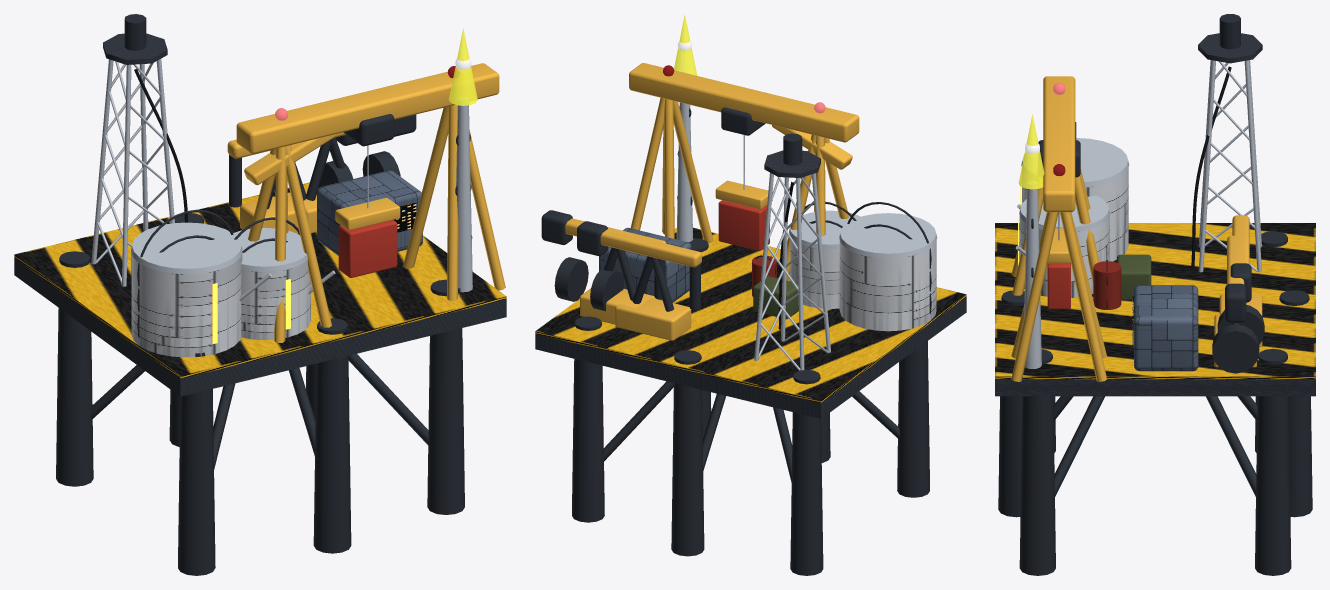
The model's file is platform-T2.glb.
The picture shows the model from 3 angles, left to right: view 1: azimuth 30°, elevation 25°; view 2: azimuth 150°, elevation 25°; view 3: azimuth 270°, elevation 25°; orthographic projection. The views are drawn at different scales.
Visible parts, largest first — view 1: object 14, object 13, object 74, object 96, object 11, object 7, object 5, object 1, anim:trolley, object 75, object 81, object 101 (+21 smaller); view 2: object 14, object 74, object 13, object 96, object 9, object 1, object 3, anim:swing (×2), object 5, anim:trolley, object 75, object 59 (+23 smaller); view 3: object 14, object 3, object 7, object 13, object 101, object 96, object 9, object 11, anim:swing (×2), anim:trolley, object 69, object 95 (+19 smaller).
Boxes of the visible parts, <box> form: object 14: <box>14,182,506,378</box>; object 13: <box>14,257,506,396</box>; object 74: <box>131,253,242,357</box>; object 96: <box>236,63,499,153</box>; object 11: <box>313,318,351,553</box>; object 7: <box>427,279,464,514</box>; object 5: <box>178,352,215,575</box>; object 1: <box>56,251,93,486</box>; anim:trolley: <box>335,114,400,277</box>; object 75: <box>131,222,242,274</box>; object 81: <box>241,260,310,340</box>; object 101: <box>317,170,422,255</box>; object 14: <box>535,227,966,402</box>; object 74: <box>839,240,936,331</box>; object 13: <box>535,297,966,418</box>; object 96: <box>629,63,859,142</box>; object 9: <box>671,350,704,556</box>; object 1: <box>790,369,823,575</box>; object 3: <box>572,316,604,522</box>; anim:swing (×2): <box>541,210,701,309</box>; object 5: <box>897,341,929,497</box>; anim:trolley: <box>715,107,772,250</box>; object 75: <box>839,213,937,258</box>; object 59: <box>615,298,691,340</box>; object 14: <box>995,223,1315,379</box>; object 3: <box>1255,349,1291,575</box>; object 7: <box>1019,349,1055,575</box>; object 13: <box>995,379,1315,396</box>; object 101: <box>1134,285,1198,371</box>; object 96: <box>1043,76,1075,212</box>; object 9: <box>1279,290,1312,517</box>; object 11: <box>998,290,1024,517</box>; anim:swing (×2): <box>1225,215,1251,322</box>; anim:trolley: <box>1038,140,1080,309</box>; object 69: <box>1024,189,1041,368</box>; object 95: <box>1011,212,1058,381</box>.
Size of the model in its own units: 3.74 by 4.76 by 3.
18 materials, 5 textured.
